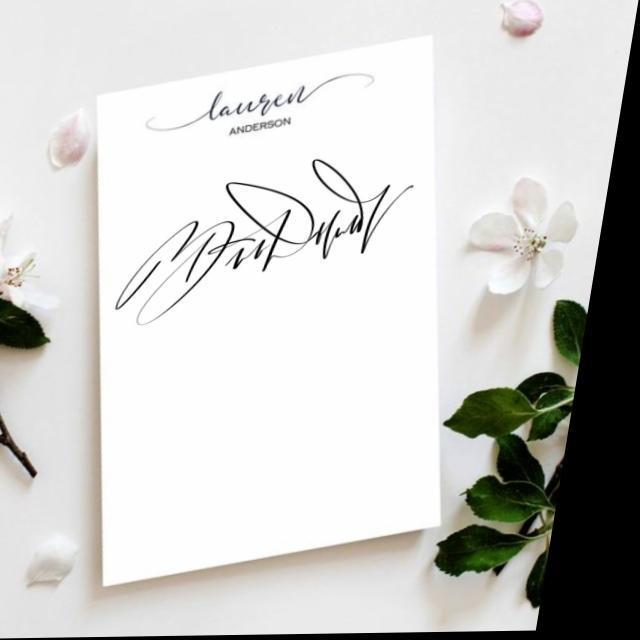-: (128, 162, 438, 321)
